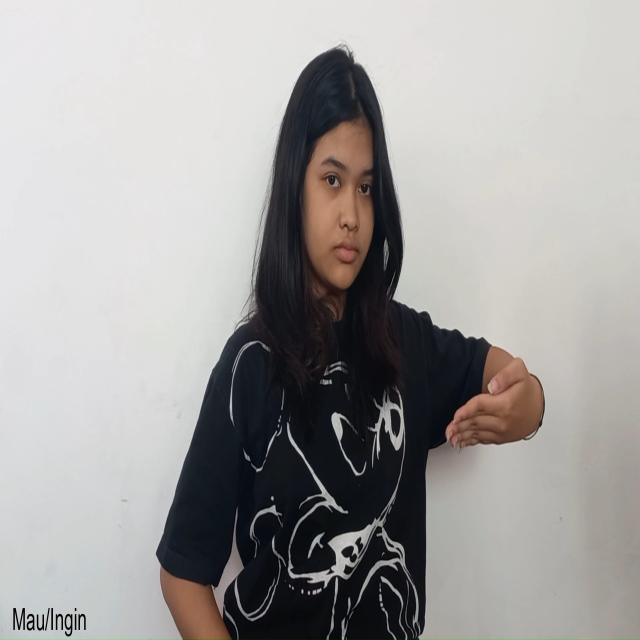Mau-Ingin -BISINDO-: (442, 353, 552, 459)
